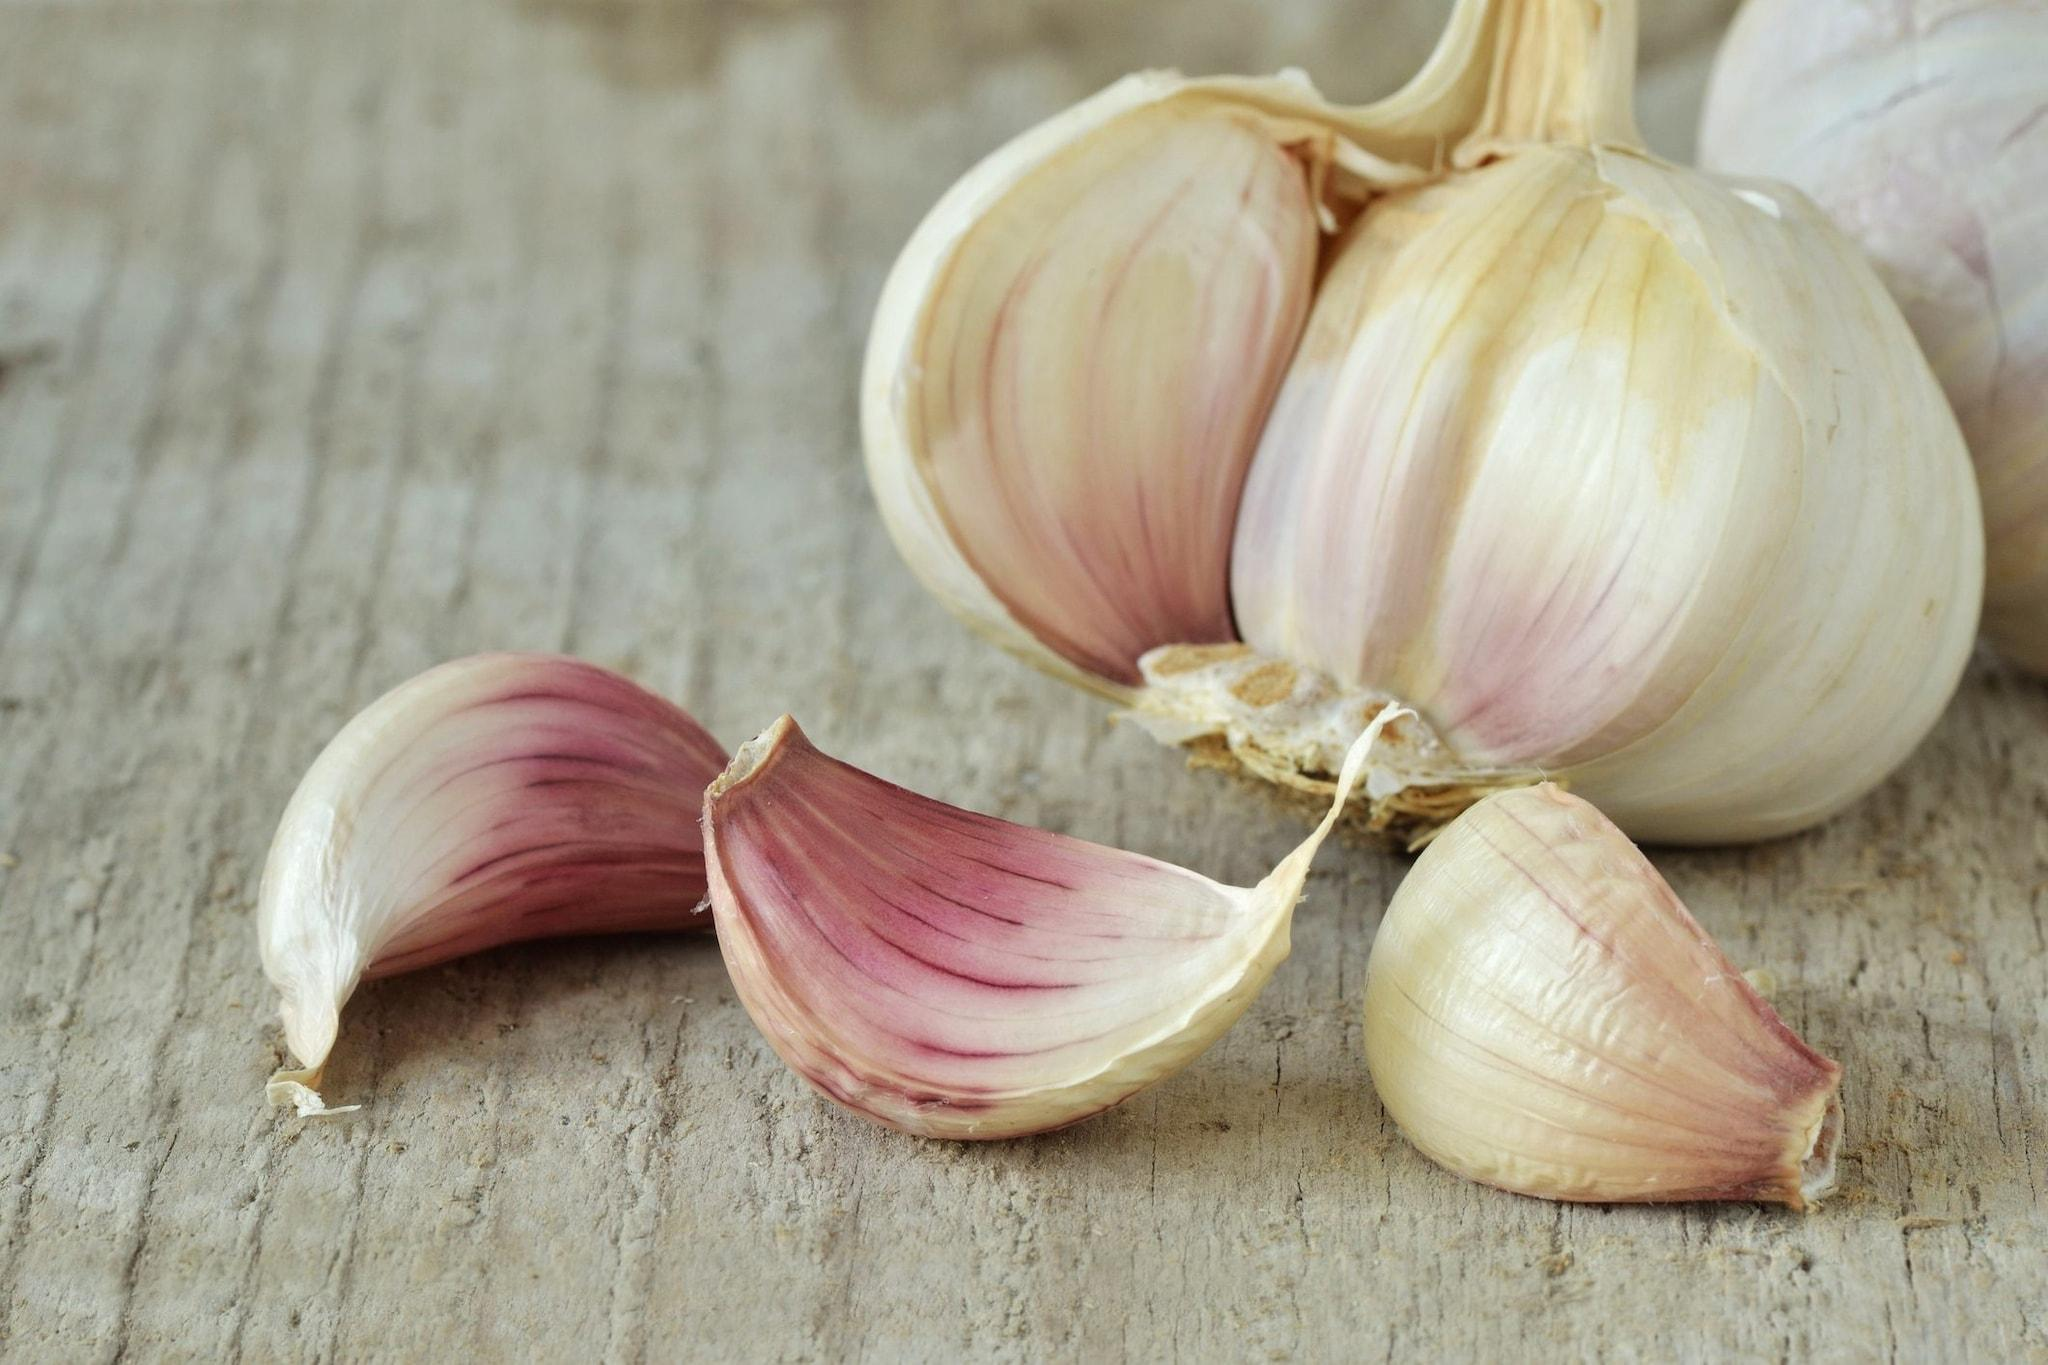garlic: (857, 0, 1989, 850), (694, 702, 1415, 1143), (1695, 0, 2046, 679), (254, 647, 732, 1117), (1361, 778, 1845, 1213)
